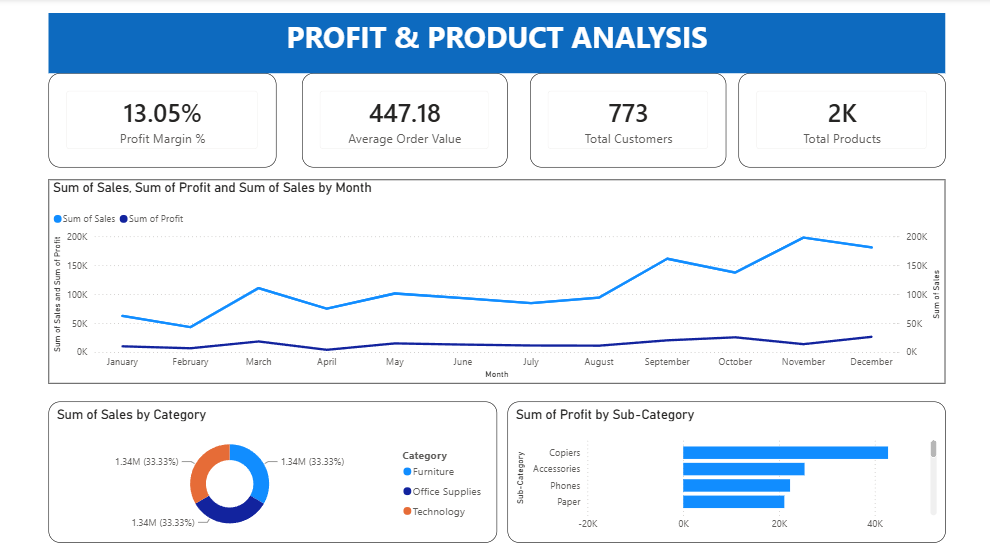

The dashboard page shown, as its layout file describes it:
{"tool":"powerbi","page":{"name":"Profit Analysis","canvas":[1280,720],"ordinal":1},"visuals":[{"type":"cardVisual","fields":{"Data":["Orders.Profit Margin %"]},"box":[63.6,96.3,292.7,121.3],"z":0},{"type":"cardVisual","fields":{"Data":["Orders.Average Order Value"]},"box":[389,96.3,263.8,121.3],"z":1000},{"type":"cardVisual","fields":{"Data":["Orders.Total Customers"]},"box":[681.7,96.3,252.3,121.3],"z":2000},{"type":"lineChart","fields":{"Category":["Orders.Order Date.Variation.Date Hierarchy.Month"],"Y2":["Sum(Orders.Sales)"],"Y":["Sum(Orders.Sales)","Sum(Orders.Profit)"]},"box":[63.6,233,1151.6,261.9],"z":3000},{"type":"clusteredBarChart","fields":{"Y":["Sum(Orders.Profit)"],"Category":["Orders.Sub-Category"]},"box":[652.8,518,562.3,181],"z":4000},{"type":"cardVisual","fields":{"Data":["Orders.Total Products"]},"box":[949.4,96.3,265.8,121.3],"z":5001},{"type":"donutChart","fields":{"Category":["Table1.Category"],"Y":["Sum(Orders.Sales)"]},"box":[63.6,518,575.8,181],"z":5002},{"type":"textbox","box":[63.6,19.3,1151.6,77],"z":5003}]}

Visuals, with their boxes in screenshot pixels (x1, y1, x2, y2), scaled from the page's 1280x720 canvas onto the 990x556 screenshot:
cardVisual - Orders.Profit Margin %: <bbox>49, 74, 276, 168</bbox>
cardVisual - Orders.Average Order Value: <bbox>301, 74, 505, 168</bbox>
cardVisual - Orders.Total Customers: <bbox>527, 74, 722, 168</bbox>
lineChart - Orders.Order Date.Variation.Date Hierarchy.Month x Sum(Orders.Sales): <bbox>49, 180, 940, 382</bbox>
clusteredBarChart - Sum(Orders.Profit) x Orders.Sub-Category: <bbox>505, 400, 940, 540</bbox>
cardVisual - Orders.Total Products: <bbox>734, 74, 940, 168</bbox>
donutChart - Table1.Category x Sum(Orders.Sales): <bbox>49, 400, 495, 540</bbox>
textbox: <bbox>49, 15, 940, 74</bbox>
